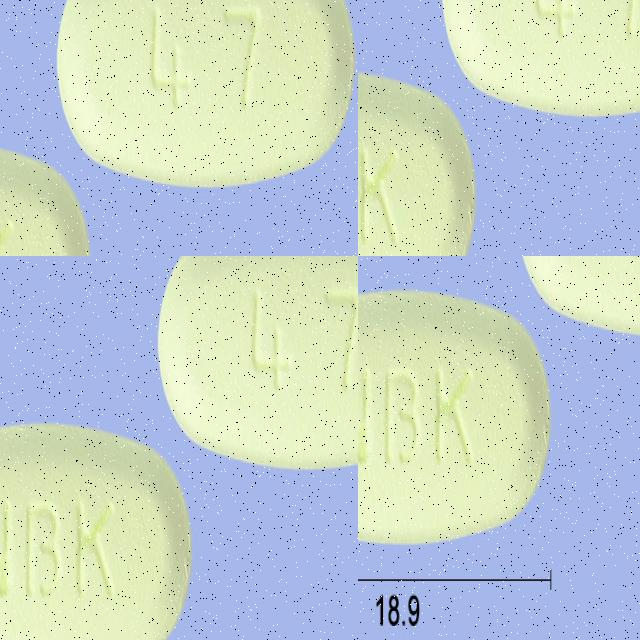Lathrocin-500mg: (358, 286, 548, 547)
Newloxacin Tab: (459, 0, 640, 256), (358, 0, 422, 256)
Reclarcin Tab: (62, 0, 354, 218)
Wooridul Ciprofloxacin Tab: (0, 490, 286, 640)
